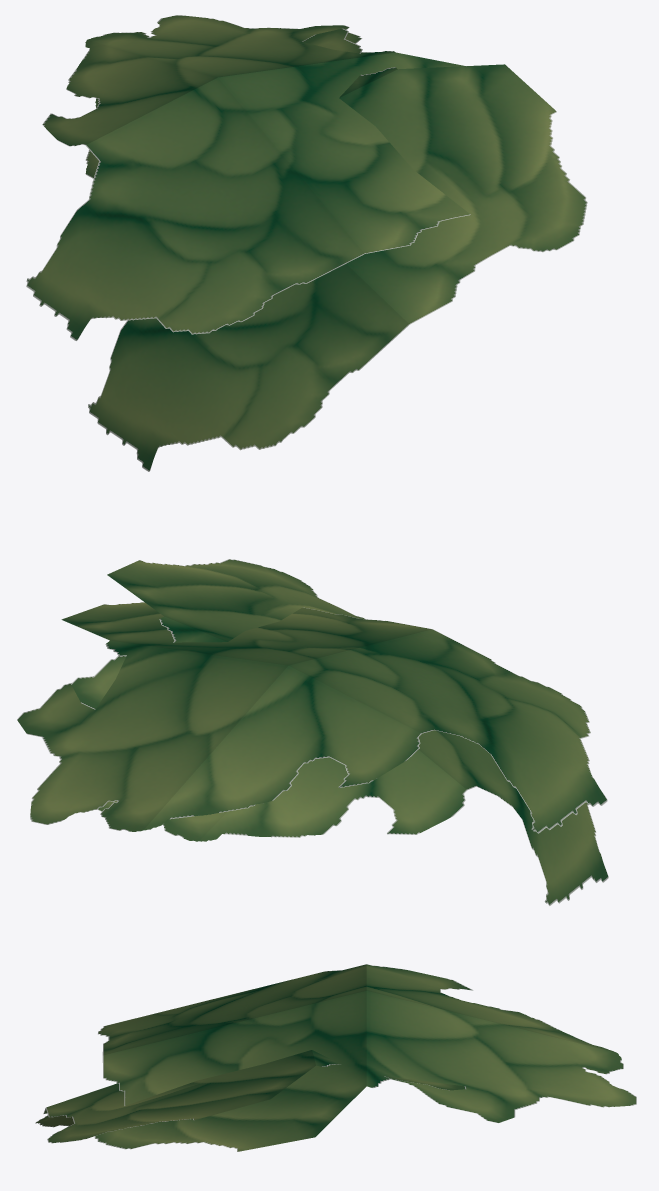
Rendered from Overgrowth2.fbx.
The picture shows the model from 3 angles, top to bottom: view 1: azimuth 30°, elevation 25°; view 2: azimuth 150°, elevation 25°; view 3: azimuth 270°, elevation 25°; orthographic projection. The views are drawn at different scales.
Visible parts, largest first — view 1: polySurface4; view 2: polySurface4; view 3: polySurface4.
Part boxes in pixels (x1,y1,x2,y2): polySurface4: (26,15,587,471); polySurface4: (17,559,608,905); polySurface4: (35,964,636,1151).
Bounding box in the file's own units: 59.37 × 30.66 × 71.77.
